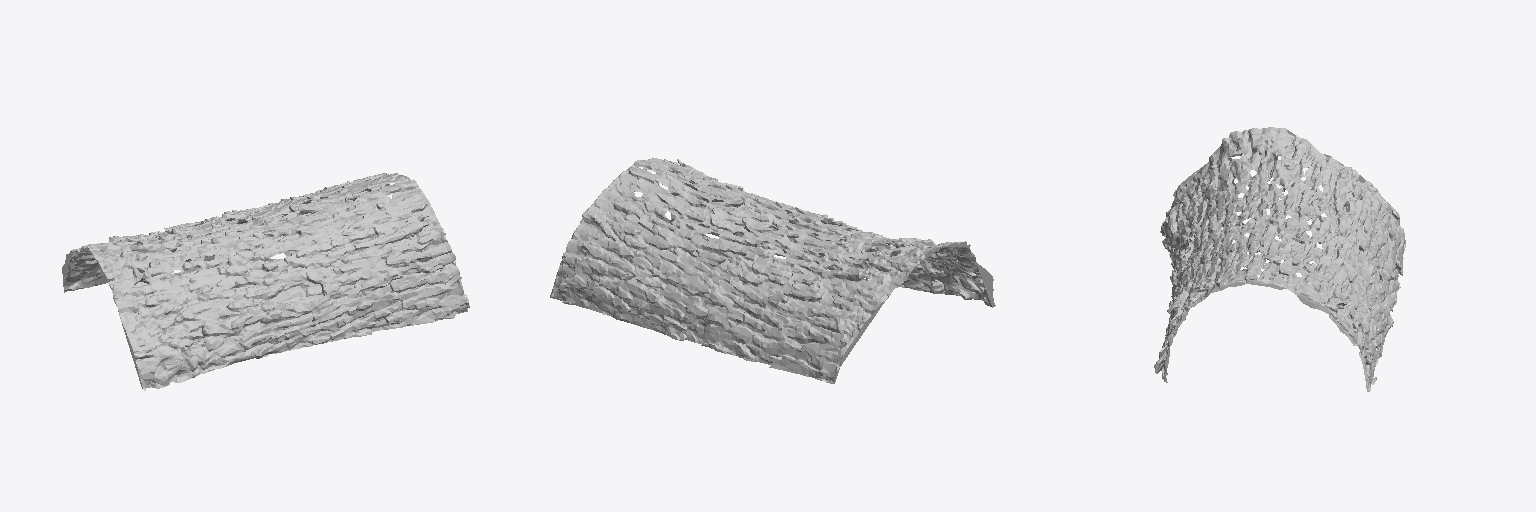
The model's file is Log_trouee.obj.
3 views of the same model, side by side, from view 1: azimuth 30°, elevation 25°; view 2: azimuth 150°, elevation 25°; view 3: azimuth 270°, elevation 25° (orthographic).
Parts seen in each view (by area): view 1: Model; view 2: Model; view 3: Model.
Part boxes in pixels (x1,y1,x2,y2): Model: (62, 173, 469, 390); Model: (550, 158, 995, 383); Model: (1154, 127, 1405, 391).
Size of the model in its own units: 3.8 by 1.06 by 2.39.